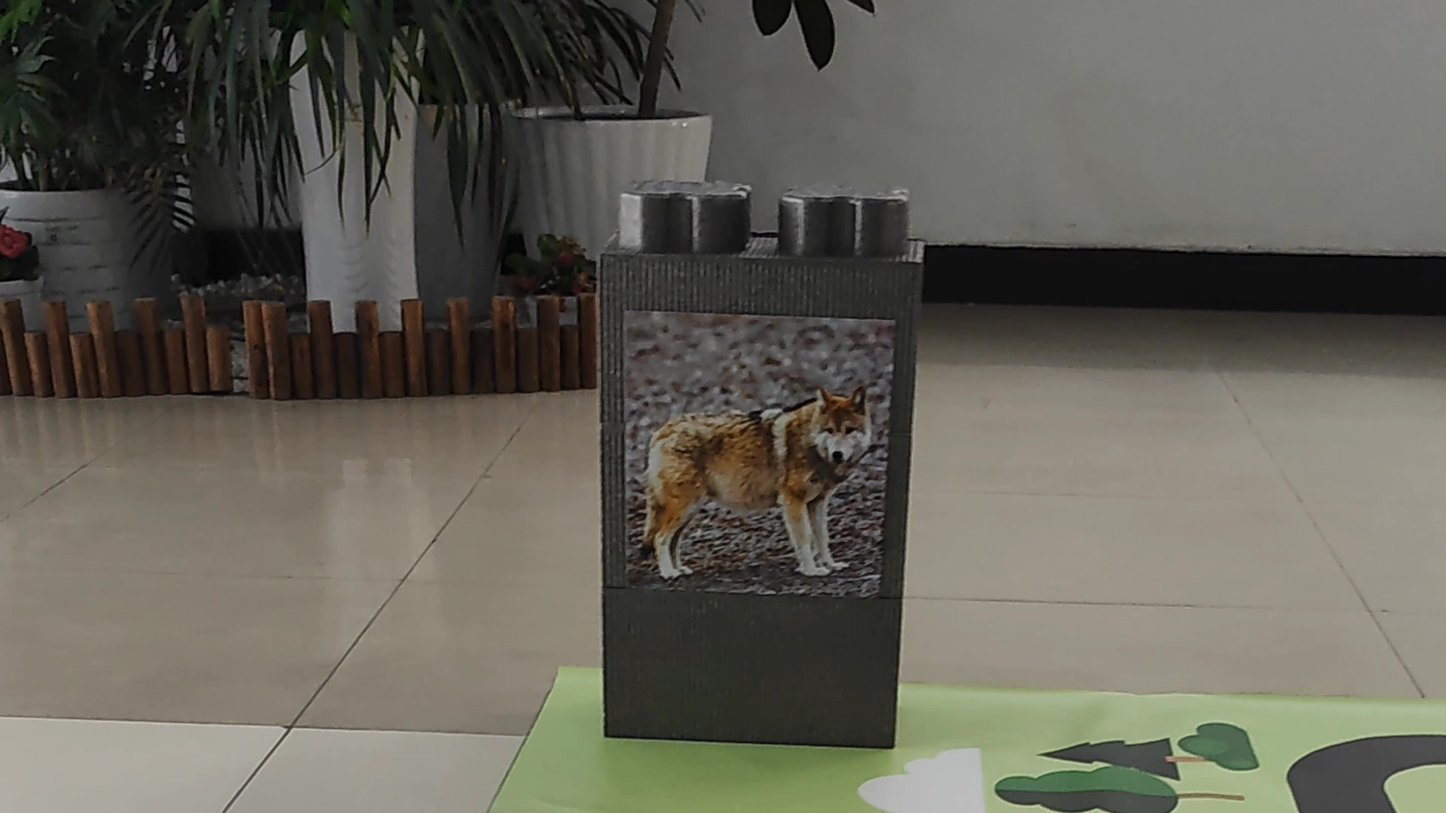wolf: (625, 303, 884, 587)
